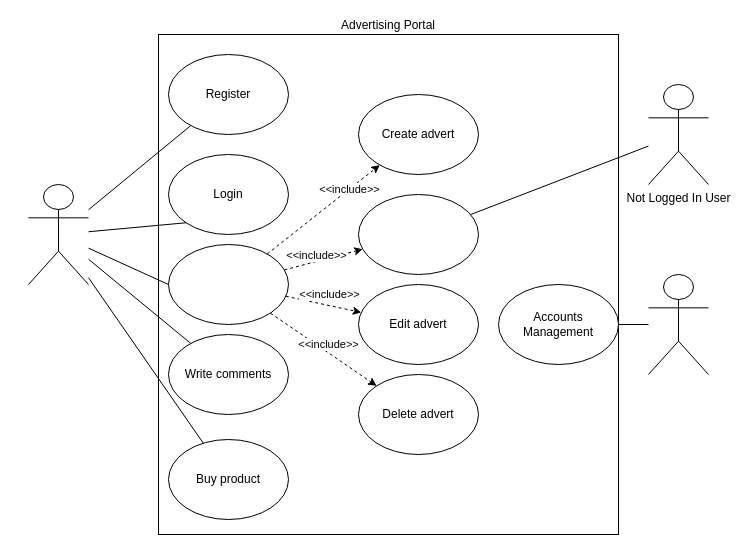
Image size: 748x552. Some labels were removed from this diagram. The shapes that lost their labels are listed below. From the top down, each one's box as (x1, y1, x2, y2) in pixels, then its label:
(28, 184, 88, 284): Logged In User
(358, 194, 478, 274): Watch adverts
(168, 244, 288, 324): Adverts Management
(648, 274, 708, 374): Administrator
